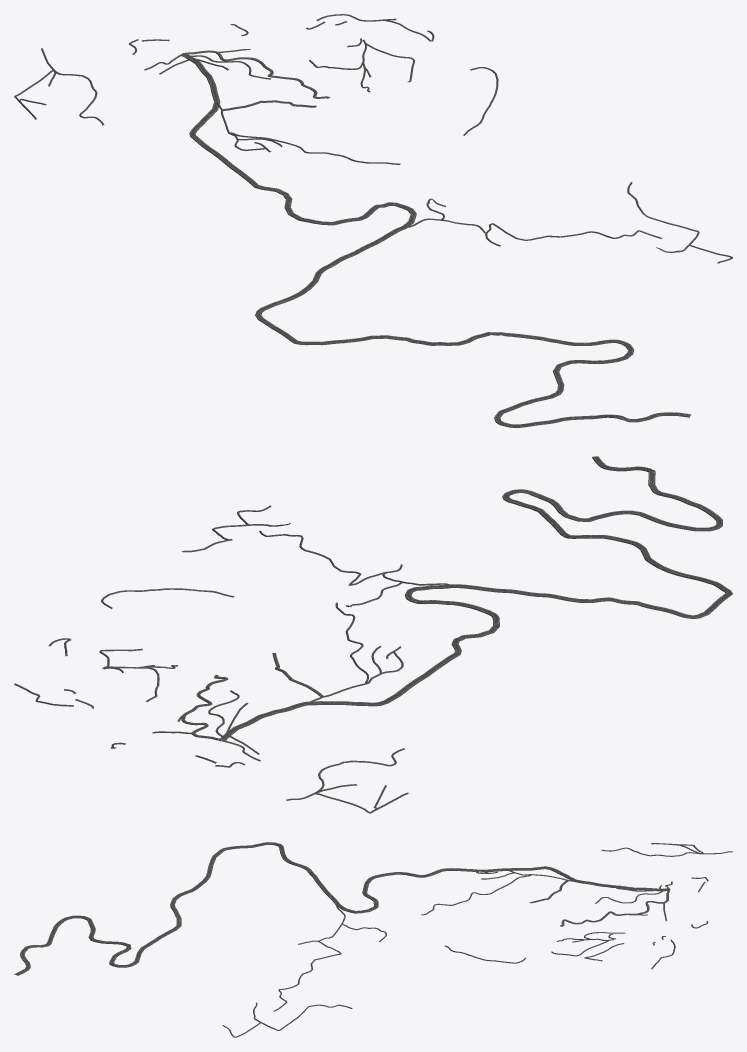
File: osm_real_roads_T_E01_S01.glb
3 views of the same model, one above another, from view 1: azimuth 30°, elevation 25°; view 2: azimuth 150°, elevation 25°; view 3: azimuth 270°, elevation 25° (orthographic). The views are drawn at different scales.
Parts seen in each view (by area): view 1: OSM_Roads_T_E01_S01_taluy_embankment, OSM_Roads_T_E01_S01_asphalt_primary, OSM_Roads_T_E01_S01_asphalt_local, OSM_Roads_T_E01_S01_sidewalk_paver; view 2: OSM_Roads_T_E01_S01_taluy_embankment, OSM_Roads_T_E01_S01_asphalt_primary, OSM_Roads_T_E01_S01_asphalt_local, OSM_Roads_T_E01_S01_sidewalk_paver; view 3: OSM_Roads_T_E01_S01_taluy_embankment, OSM_Roads_T_E01_S01_asphalt_primary, OSM_Roads_T_E01_S01_asphalt_local, OSM_Roads_T_E01_S01_sidewalk_paver.
Part boxes in pixels (box(x1,y1,x2,y2)): OSM_Roads_T_E01_S01_taluy_embankment: box(14, 14, 732, 427); OSM_Roads_T_E01_S01_asphalt_primary: box(182, 53, 690, 426); OSM_Roads_T_E01_S01_asphalt_local: box(14, 14, 732, 263); OSM_Roads_T_E01_S01_sidewalk_paver: box(181, 50, 690, 426); OSM_Roads_T_E01_S01_taluy_embankment: box(14, 457, 732, 813); OSM_Roads_T_E01_S01_asphalt_primary: box(221, 456, 731, 740); OSM_Roads_T_E01_S01_asphalt_local: box(14, 505, 450, 812); OSM_Roads_T_E01_S01_sidewalk_paver: box(182, 456, 732, 740); OSM_Roads_T_E01_S01_taluy_embankment: box(14, 843, 732, 1037); OSM_Roads_T_E01_S01_asphalt_primary: box(15, 842, 669, 975); OSM_Roads_T_E01_S01_asphalt_local: box(223, 843, 732, 1036); OSM_Roads_T_E01_S01_sidewalk_paver: box(14, 842, 669, 975).
Size of the model in its own units: 1696 by 308 by 3026.
7 materials, 5 textured.
